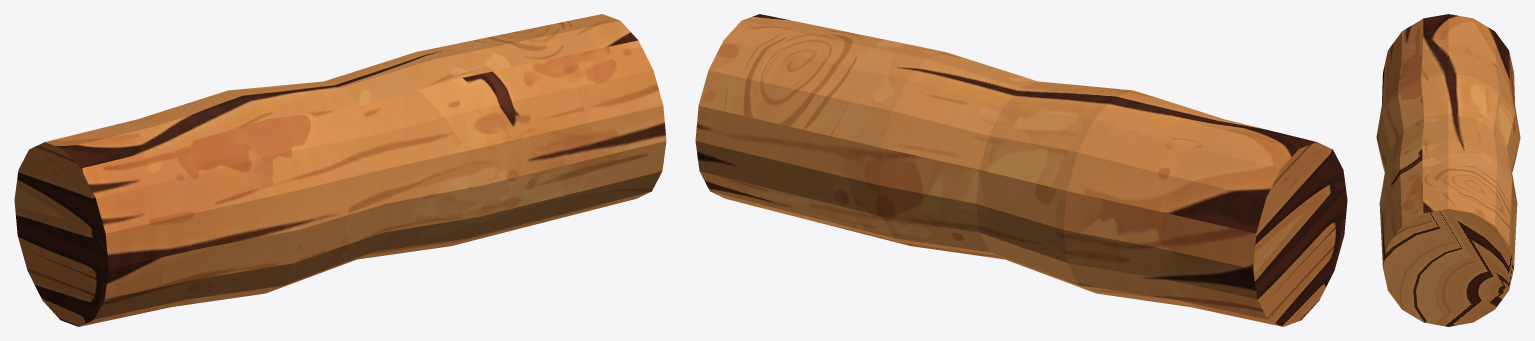
Rendered from Prop_Laboratorio_Leños.fbx.
3 views of the same model, side by side, from view 1: azimuth 30°, elevation 25°; view 2: azimuth 150°, elevation 25°; view 3: azimuth 270°, elevation 25° (orthographic). The views are drawn at different scales.
Parts seen in each view (by area): view 1: Circle.007; view 2: Circle.007; view 3: Circle.007.
Boxes of the visible parts, x1=… form: Circle.007: x1=14, y1=14, x2=666, y2=326; Circle.007: x1=695, y1=14, x2=1347, y2=326; Circle.007: x1=1376, y1=14, x2=1520, y2=326.
Size of the model in its own units: 685 by 220 by 220.
